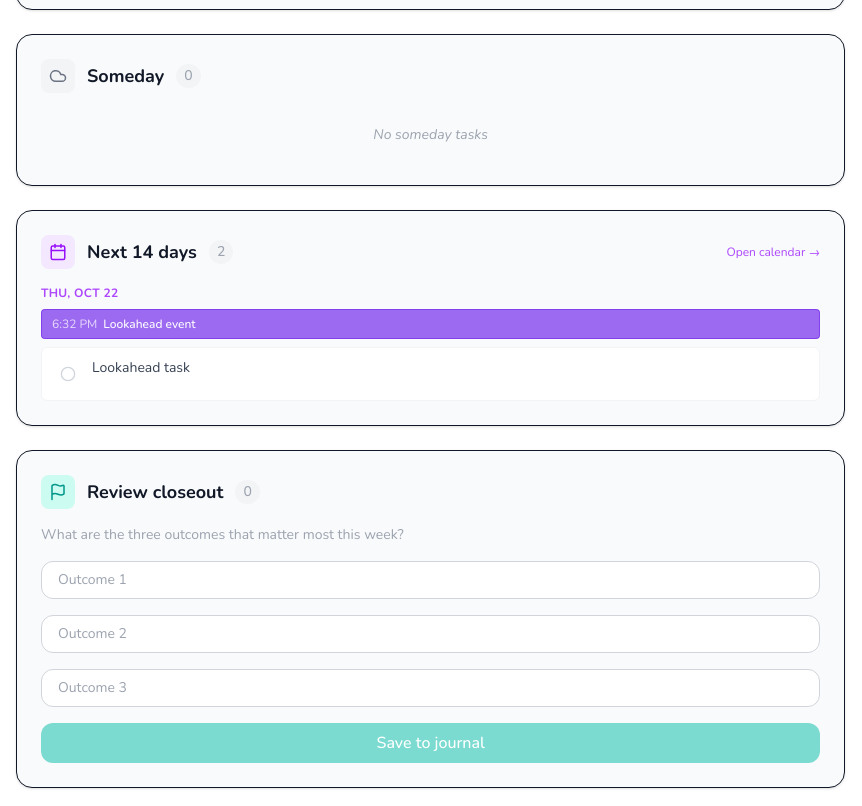
it: WeeklyReview › enables save button when at least one outcome is filled
(page scrolled)
Type "Finish project" into the field with placeholder "Outcome 1" at (431, 580), box [41,561,820,599]
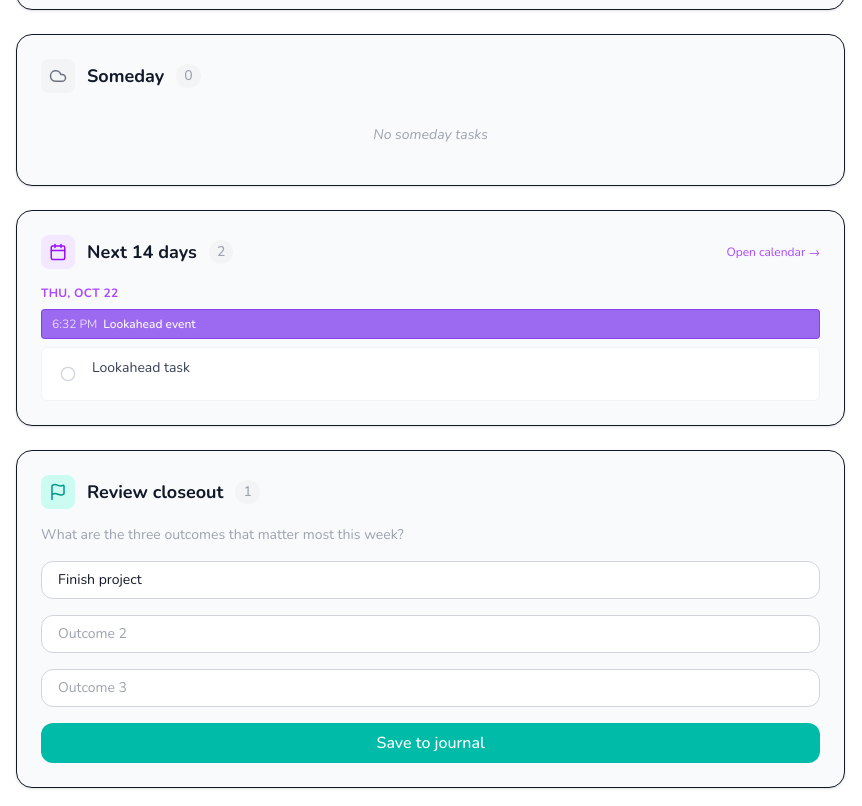
Expected: the button "Save to journal" is enabled, [41,723,820,763]
